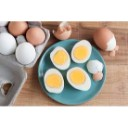begg: (68, 68, 92, 91), (44, 68, 65, 94), (71, 39, 91, 61)
